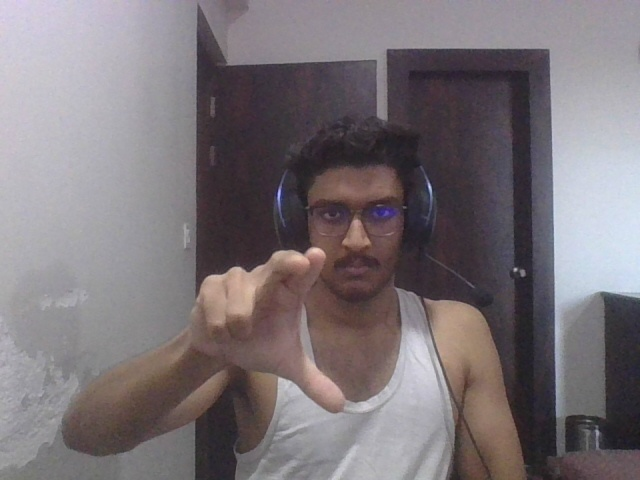No: (186, 236, 355, 418)
